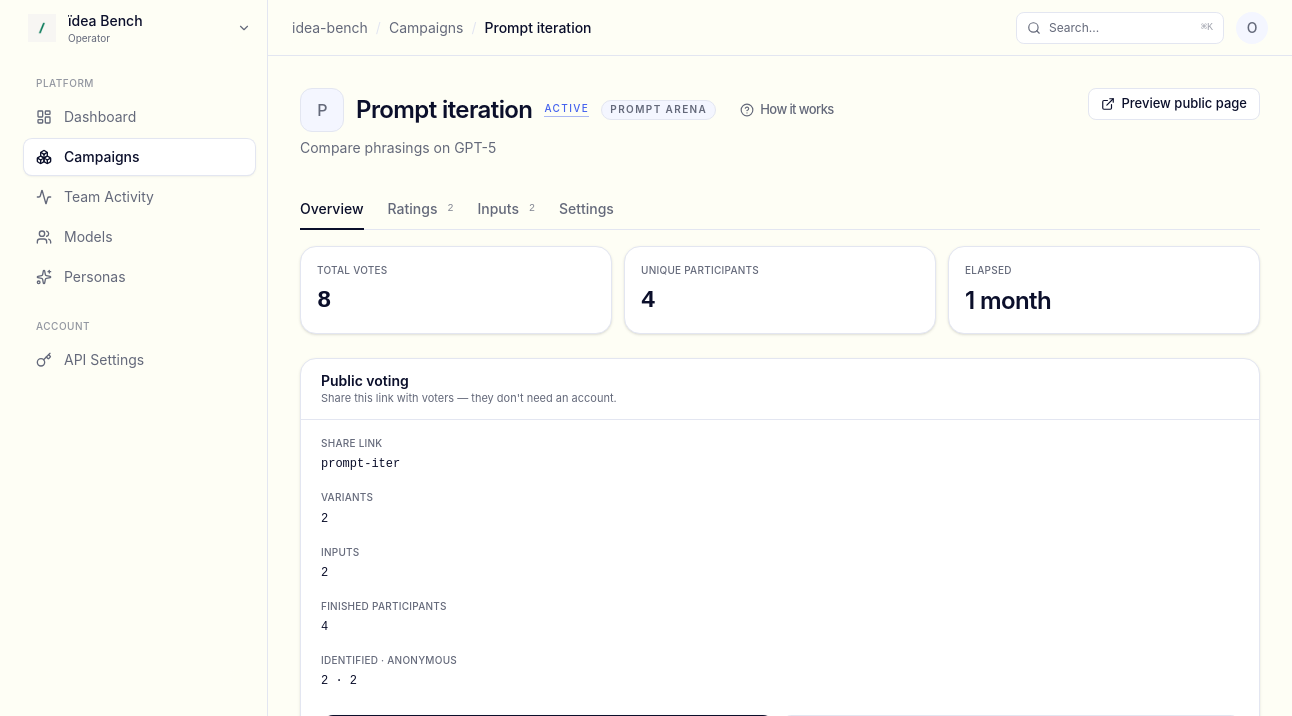
Test case: CampaignDashboard › prompt-arena surface (kind='prompt') › renders the variant text panel with each variant body and rank
Note: Land on the Ratings tab where the prompt-arena surface lives.
Click the tab "Ratings 2" at x=420, y=210, box [388,190,453,230]
(page scrolled)
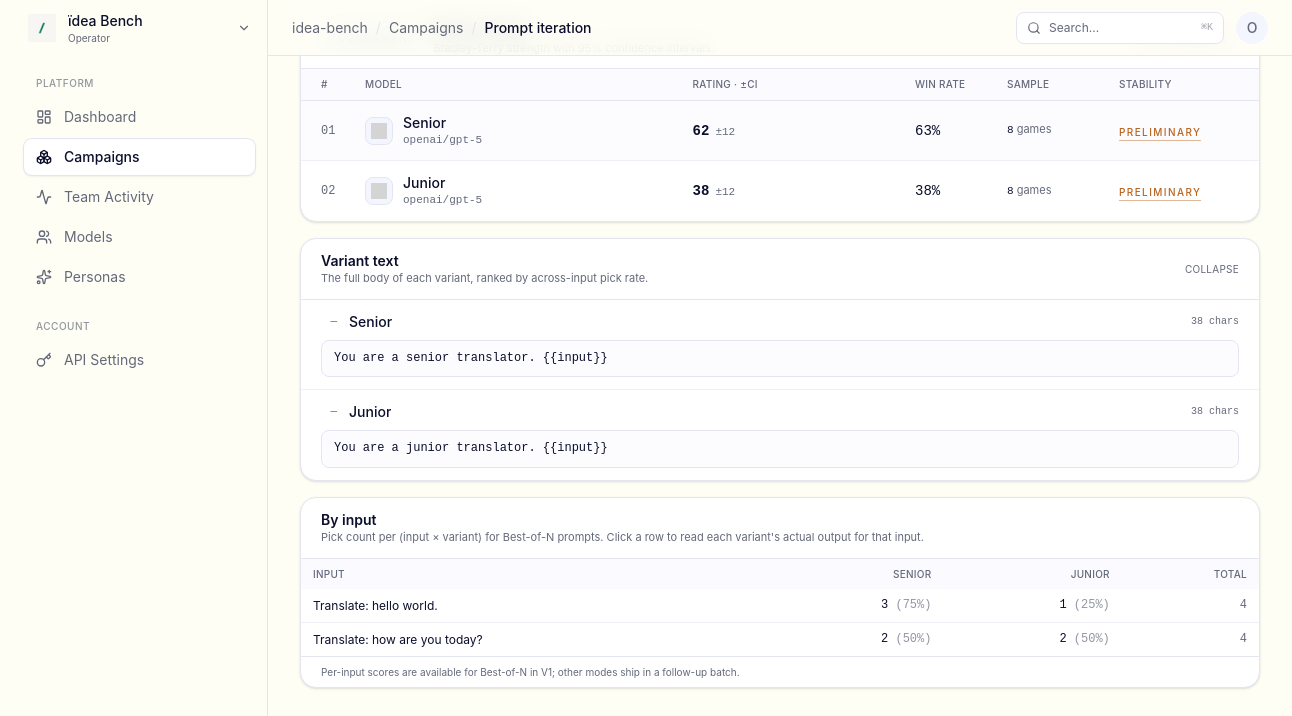
Check: the heading "Variant text" is shown, box [321,252,399,269]
Check: the number of elements with test id "variant-text-body" is 2, box [321,340,1239,377]; [321,430,1239,468]
Check: the text with test id "variant-text-body" reads "You are a senior translator. {{input}}", box [334,351,608,365]
